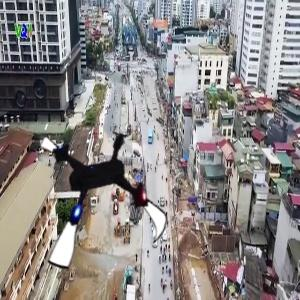drone: (13, 119, 176, 282)
